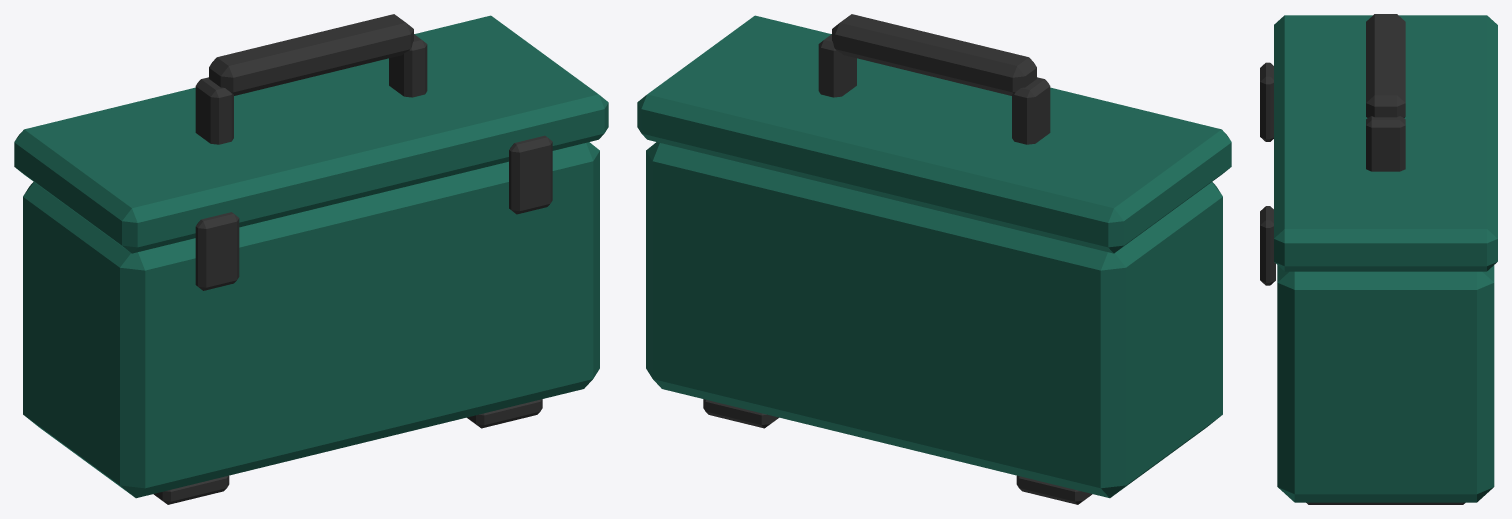
The model's file is utility_case.obj.
The picture shows the model from 3 angles, left to right: view 1: azimuth 30°, elevation 25°; view 2: azimuth 150°, elevation 25°; view 3: azimuth 270°, elevation 25°; orthographic projection. The views are drawn at different scales.
Parts seen in each view (by area): view 1: CaseBody, CaseLid, HandleGrip, Latch, HandleSupport, Foot; view 2: CaseBody, CaseLid, HandleGrip, HandleSupport, Foot; view 3: CaseLid, CaseBody, HandleGrip, Latch, HandleSupport, Foot.
Boxes of the visible parts, <box> form: CaseBody: <box>23,142,599,498</box>; CaseLid: <box>14,15,608,253</box>; HandleGrip: <box>209,14,413,95</box>; Latch: <box>195,135,552,290</box>; HandleSupport: <box>195,34,427,144</box>; Foot: <box>153,399,542,504</box>; CaseBody: <box>646,142,1222,498</box>; CaseLid: <box>637,15,1231,253</box>; HandleGrip: <box>832,14,1036,95</box>; HandleSupport: <box>818,34,1050,144</box>; Foot: <box>703,399,1092,504</box>; CaseLid: <box>1274,15,1497,271</box>; CaseBody: <box>1277,265,1494,502</box>; HandleGrip: <box>1366,14,1405,117</box>; Latch: <box>1260,62,1275,285</box>; HandleSupport: <box>1366,116,1405,171</box>; Foot: <box>1306,502,1465,504</box>.
Bounding box in the file's own units: 0.73 × 0.5585 × 0.329.
